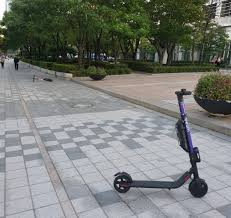kick_board: (114, 88, 209, 197)
kick_body: (134, 179, 179, 186)
kick_handler: (175, 89, 191, 98)
kick_neck: (177, 105, 202, 172)
kick_wheel: (188, 180, 208, 198), (115, 171, 131, 192)
